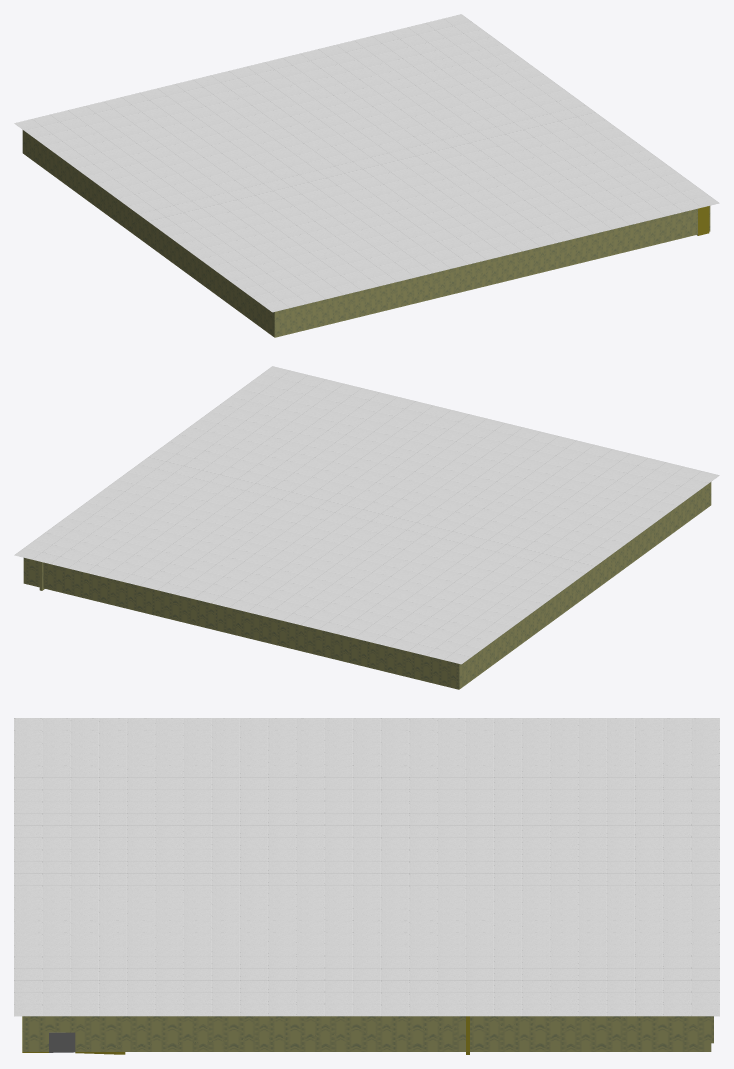
The model's file is BisneyTunnels.fbx.
3 views of the same model, one above another, from view 1: azimuth 30°, elevation 25°; view 2: azimuth 150°, elevation 25°; view 3: azimuth 270°, elevation 25° (orthographic). The views are drawn at different scales.
Visible parts, largest first — view 1: Plane, ground; view 2: Plane, ground; view 3: Plane, ground, Elevator.
Part boxes in pixels (x1,y1,x2,y2): Plane: (14, 14, 719, 312); ground: (22, 130, 710, 337); Plane: (14, 366, 719, 664); ground: (23, 482, 711, 689); Plane: (14, 718, 719, 1016); ground: (22, 1016, 711, 1051); Elevator: (49, 1032, 75, 1052).
Size of the model in its own units: 7600 by 503 by 7600.
